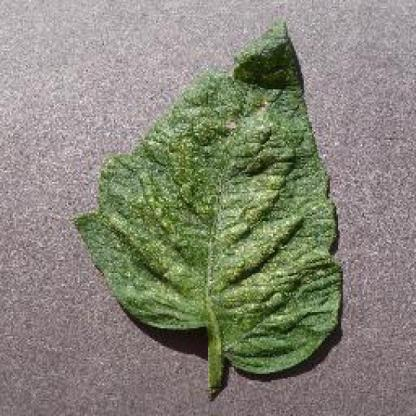Tomato_Spider_Mites: (74, 22, 340, 374)
